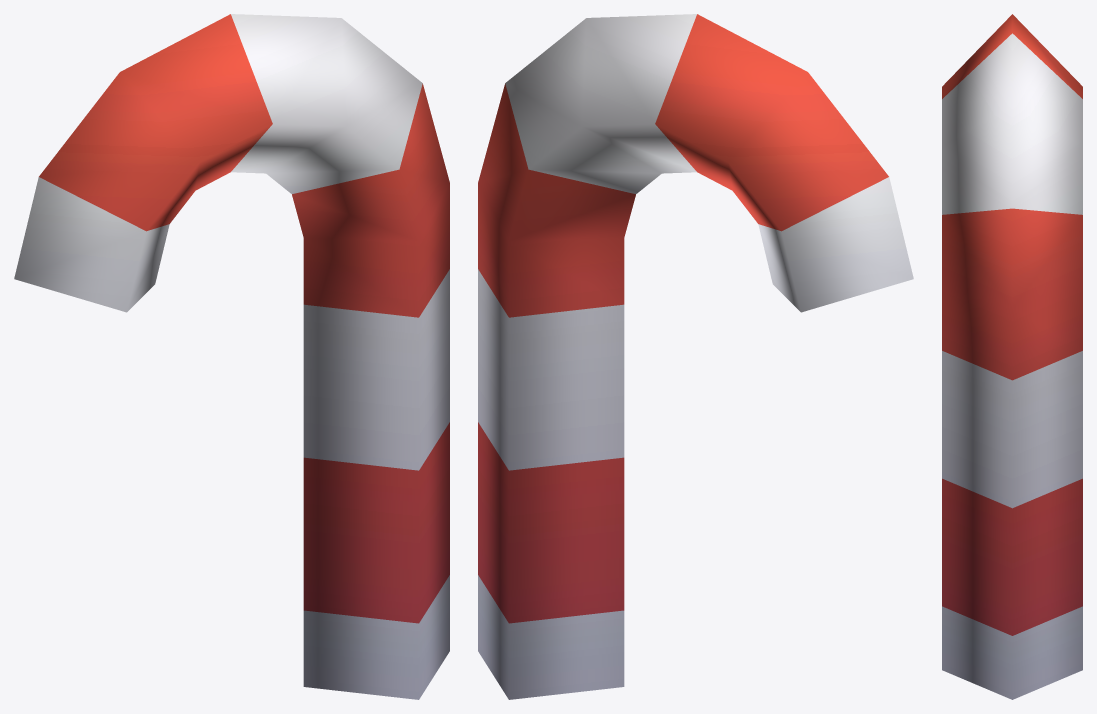
File: candy_cane.glb
3 renders of one model, left to right at view 1: azimuth 30°, elevation 25°; view 2: azimuth 150°, elevation 25°; view 3: azimuth 270°, elevation 25°, orthographic. The views are drawn at different scales.
Parts seen in each view (by area): view 1: candy-cane-red; view 2: candy-cane-red; view 3: candy-cane-red.
Boxes of the visible parts, x1,y1,x2,y2 form: candy-cane-red: (14, 14, 449, 699); candy-cane-red: (478, 14, 913, 699); candy-cane-red: (942, 14, 1082, 699).
Size of the model in its own units: 0.2983 by 0.4518 by 0.1.
Materials: 1 (1 with a texture image).
